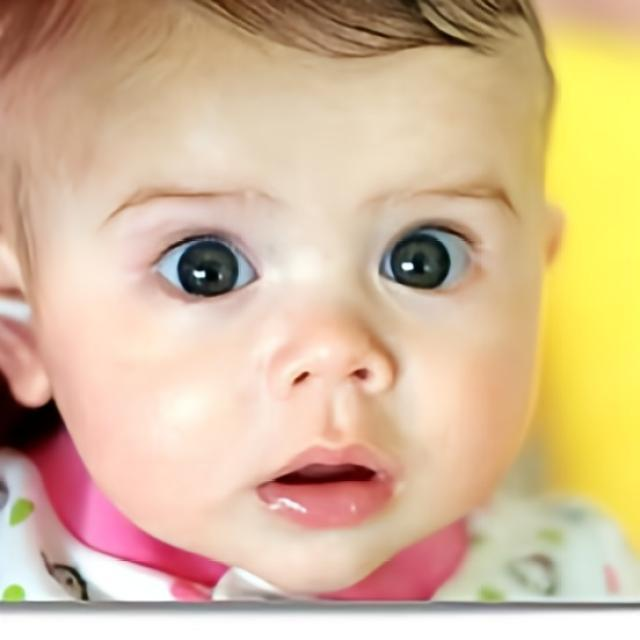surprise: (54, 0, 551, 592)
